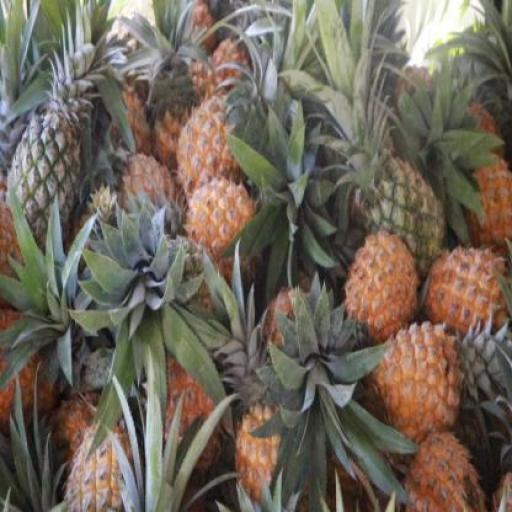Pineapple - v8 v1: (376, 324, 462, 446), (345, 236, 421, 350), (425, 248, 509, 344), (176, 104, 247, 206), (185, 180, 258, 269)
